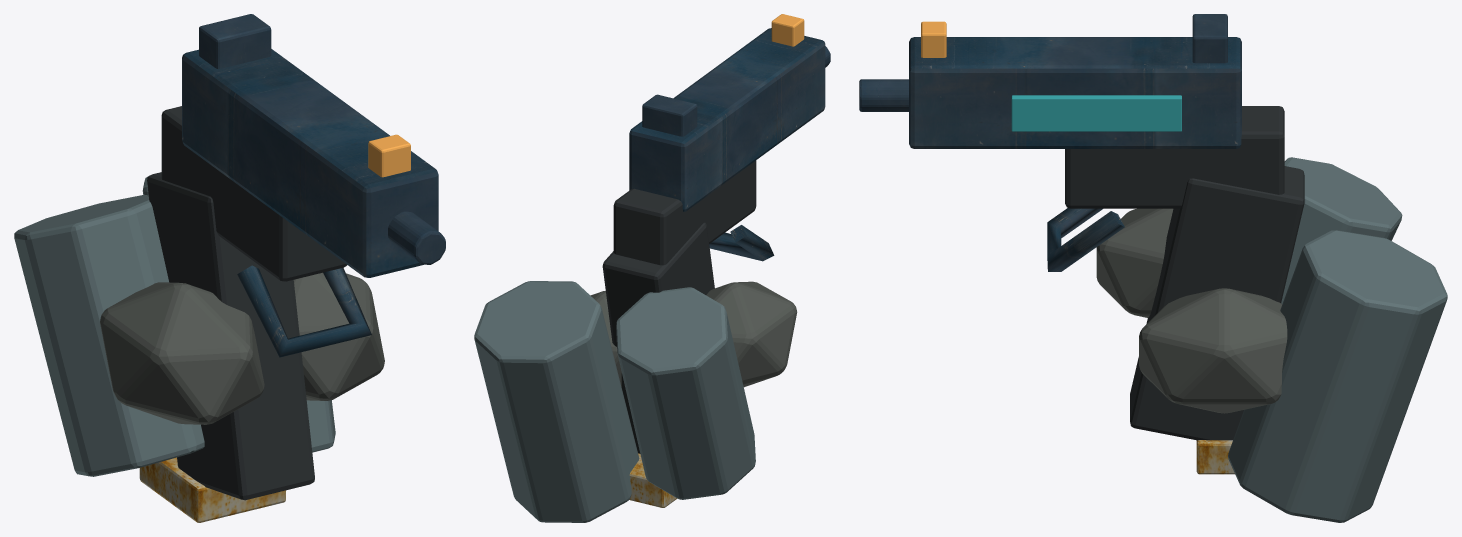
File: vb_pistol.glb
The picture shows the model from 3 angles, left to right: view 1: azimuth 30°, elevation 25°; view 2: azimuth 150°, elevation 25°; view 3: azimuth 270°, elevation 25°; orthographic projection. The views are drawn at different scales.
Parts seen in each view (by area): view 1: GEO-pistol_slide, GEO-pistol_forearm_1, GEO-pistol_grip, GEO-pistol_glove_1, GEO-pistol_frame, GEO-pistol_glove_0, GEO-pistol_trigger_guard, GEO-pistol_mag_base, GEO-pistol_rear_sight, GEO-pistol_barrel, GEO-pistol_front_sight, GEO-pistol_forearm_0; view 2: GEO-pistol_forearm_0, GEO-pistol_forearm_1, GEO-pistol_slide, GEO-pistol_frame, GEO-pistol_glove_1, GEO-pistol_grip, GEO-pistol_rear_sight, GEO-pistol_trigger_guard, GEO-pistol_mag_base, GEO-pistol_front_sight, GEO-pistol_glove_0; view 3: GEO-pistol_forearm_0, GEO-pistol_slide, GEO-pistol_grip, GEO-pistol_glove_0, GEO-pistol_frame, GEO-pistol_forearm_1, GEO-pistol_accent, GEO-pistol_glove_1, GEO-pistol_trigger_guard, GEO-pistol_rear_sight, GEO-pistol_barrel, GEO-pistol_mag_base (+1 smaller).
Boxes of the visible parts, left/top/right/bottom form: GEO-pistol_slide: left=182, top=49, right=438, bottom=277; GEO-pistol_forearm_1: left=14, top=194, right=204, bottom=476; GEO-pistol_grip: left=147, top=172, right=314, bottom=500; GEO-pistol_glove_1: left=100, top=282, right=264, bottom=424; GEO-pistol_frame: left=161, top=106, right=346, bottom=281; GEO-pistol_glove_0: left=293, top=272, right=384, bottom=400; GEO-pistol_trigger_guard: left=237, top=265, right=371, bottom=357; GEO-pistol_mag_base: left=139, top=457, right=285, bottom=522; GEO-pistol_rear_sight: left=199, top=14, right=271, bottom=68; GEO-pistol_barrel: left=388, top=211, right=445, bottom=264; GEO-pistol_front_sight: left=368, top=134, right=410, bottom=177; GEO-pistol_forearm_0: left=142, top=175, right=335, bottom=452; GEO-pistol_forearm_0: left=474, top=281, right=639, bottom=522; GEO-pistol_forearm_1: left=616, top=287, right=755, bottom=499; GEO-pistol_slide: left=629, top=28, right=825, bottom=211; GEO-pistol_frame: left=613, top=160, right=756, bottom=265; GEO-pistol_glove_1: left=706, top=281, right=797, bottom=387; GEO-pistol_grip: left=602, top=222, right=714, bottom=453; GEO-pistol_rear_sight: left=642, top=94, right=697, bottom=136; GEO-pistol_trigger_guard: left=709, top=225, right=774, bottom=261; GEO-pistol_mag_base: left=629, top=453, right=676, bottom=507; GEO-pistol_front_sight: left=771, top=14, right=804, bottom=46; GEO-pistol_glove_0: left=590, top=291, right=621, bottom=386; GEO-pistol_forearm_0: left=1228, top=230, right=1447, bottom=522; GEO-pistol_slide: left=909, top=37, right=1241, bottom=148; GEO-pistol_grip: left=1130, top=166, right=1304, bottom=440; GEO-pistol_glove_0: left=1139, top=288, right=1287, bottom=413; GEO-pistol_frame: left=1065, top=106, right=1284, bottom=208; GEO-pistol_forearm_1: left=1281, top=157, right=1402, bottom=304; GEO-pistol_accent: left=1011, top=95, right=1181, bottom=131; GEO-pistol_glove_1: left=1096, top=208, right=1173, bottom=317; GEO-pistol_trigger_guard: left=1047, top=208, right=1124, bottom=271; GEO-pistol_rear_sight: left=1192, top=14, right=1227, bottom=63; GEO-pistol_barrel: left=859, top=79, right=908, bottom=111; GEO-pistol_mag_base: left=1196, top=440, right=1234, bottom=474.
Size of the model in its own units: 0.2152 by 0.3493 by 0.415.
Materials: 8 (3 with a texture image).
